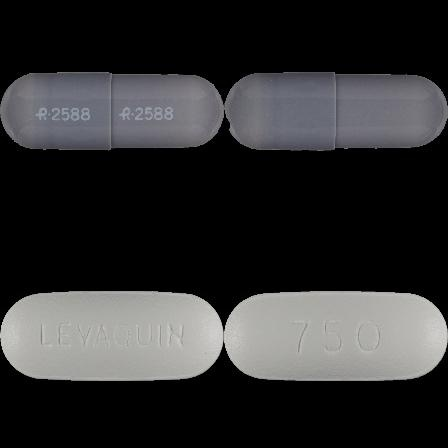54868-4970: (0, 0, 224, 224)
